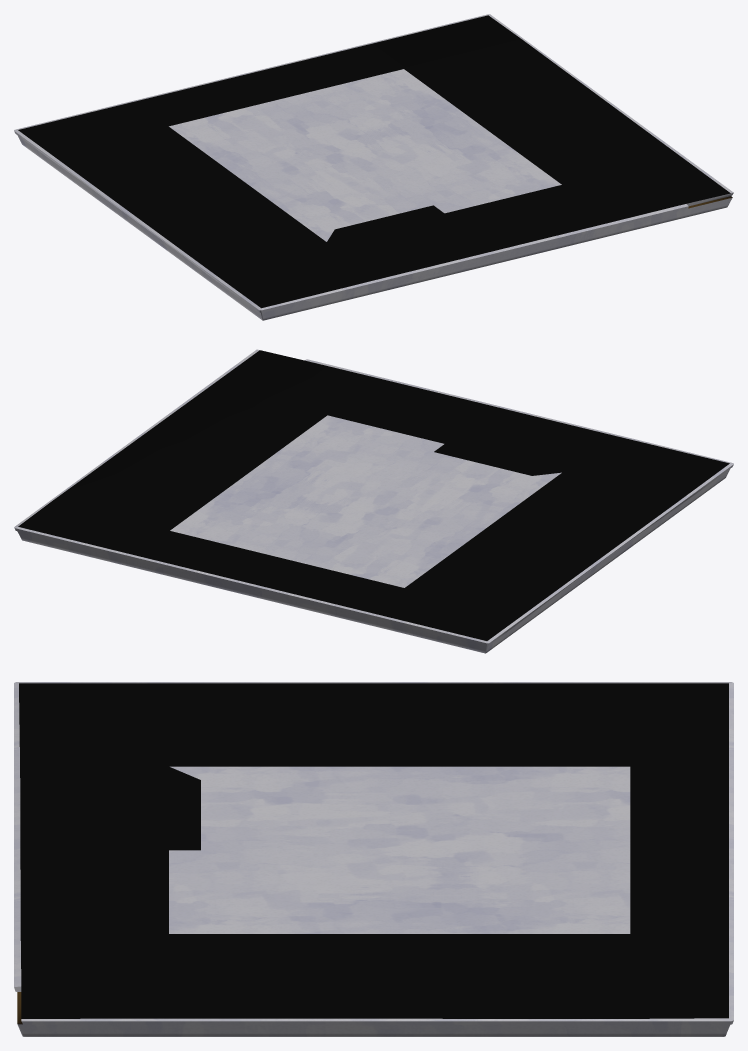
Rendered from 1stFloor.fbx.
The picture shows the model from 3 angles, top to bottom: view 1: azimuth 30°, elevation 25°; view 2: azimuth 150°, elevation 25°; view 3: azimuth 270°, elevation 25°; orthographic projection. The views are drawn at different scales.
Visible parts, largest first — view 1: Ground_1st; view 2: Ground_1st; view 3: Ground_1st.
Boxes of the visible parts, x1,y1,x2,y2 form: Ground_1st: [14, 14, 733, 320]; Ground_1st: [14, 349, 733, 653]; Ground_1st: [14, 682, 733, 1036].
Size of the model in its own units: 1240 by 35.89 by 1113.
